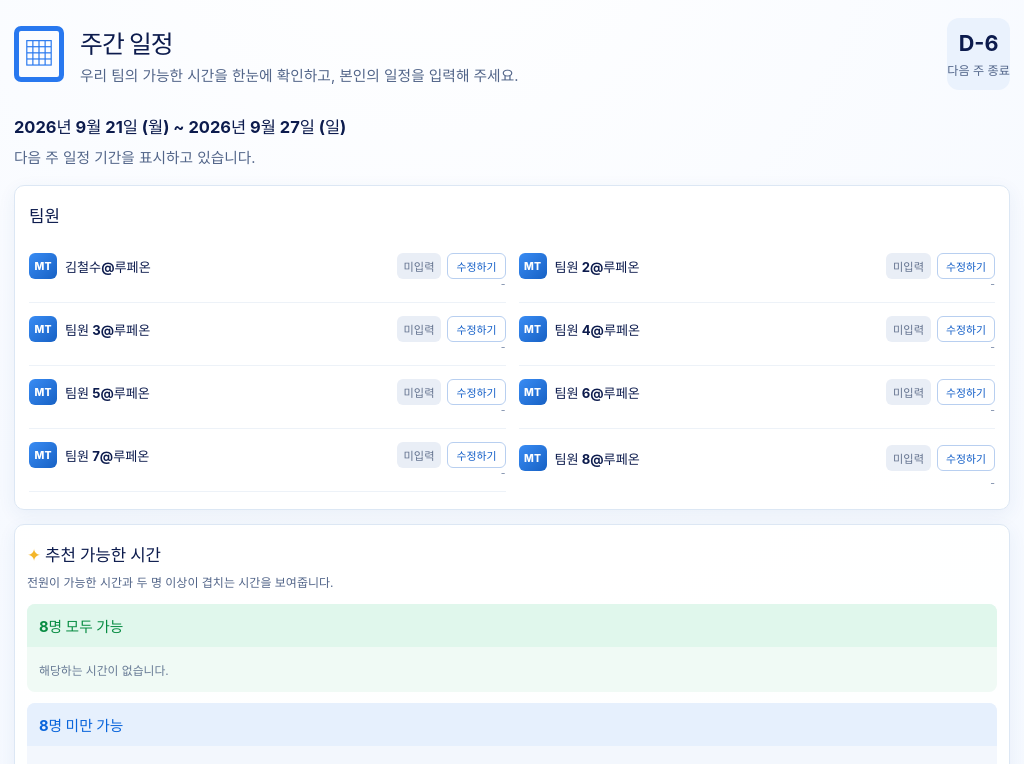
Test: SchedulePage › 서버에서 받은 다음 주 날짜와 편집 문구를 표시한다
Click the button "수정하기" in the row of "김철수" at (476, 266), box [448,253,506,279]
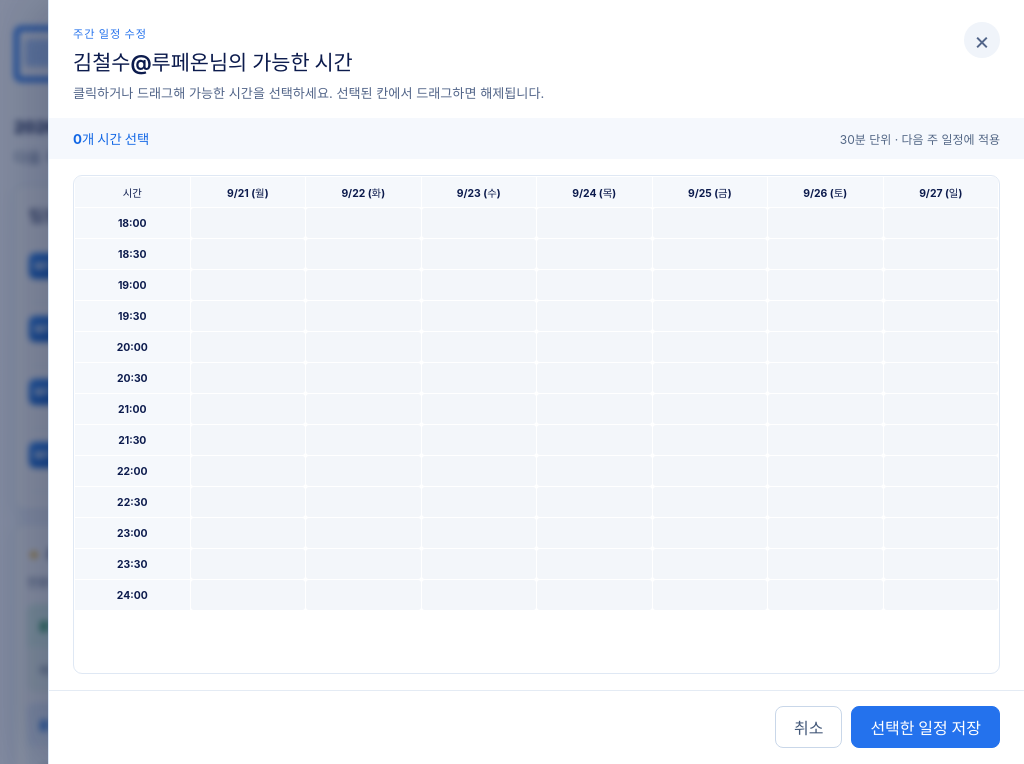
Now the text "30분 단위 · 다음 주 일정에 적용" is shown, box [840,130,1000,147]
